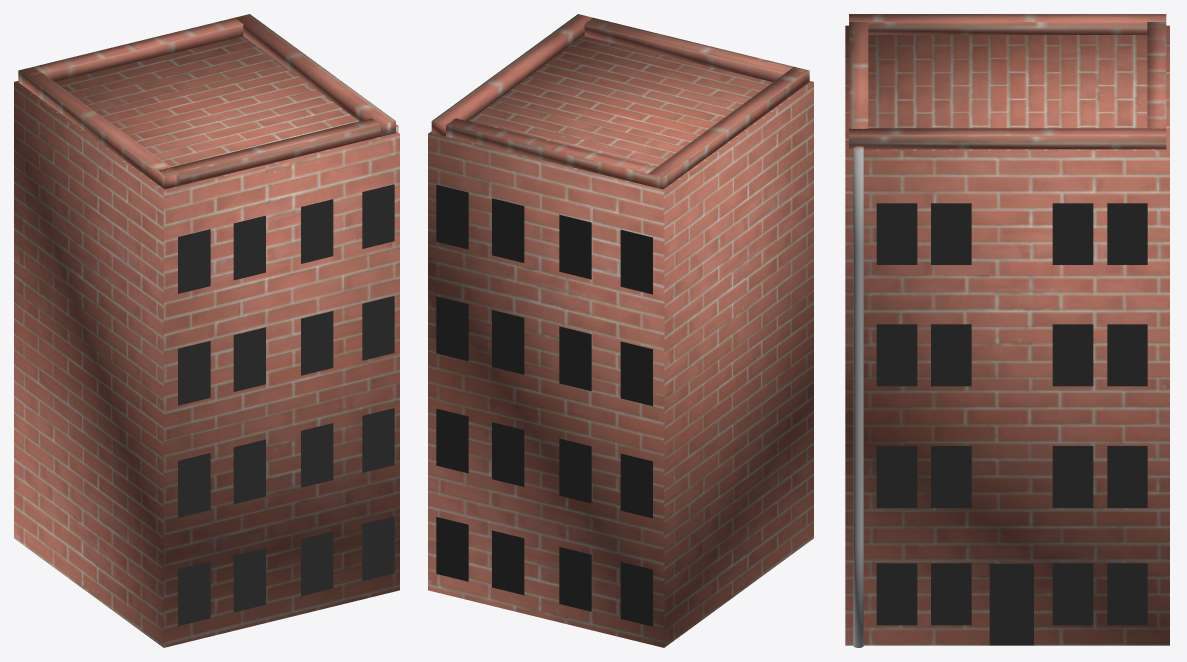
Rendered from building1.obj.
3 renders of one model, left to right at view 1: azimuth 30°, elevation 25°; view 2: azimuth 150°, elevation 25°; view 3: azimuth 270°, elevation 25°, orthographic. The views are drawn at different scales.
Parts seen in each view (by area): view 1: Box001, Box005, Box004, Box003, Box002, Plane034, Plane036, Plane037, Plane038, Plane039, Plane040, Plane041 (+9 smaller); view 2: Box001, Box004, Box005, Box003, Box002, Plane019, Plane020, Plane021, Plane023, Plane024, Plane025, Plane026 (+9 smaller); view 3: Box001, Box002, Box003, Cylinder001, Plane003, Plane002, Plane005, Plane011, Plane013, Plane007, Plane009, Plane015 (+11 smaller).
Boxes of the visible parts, bbox=[...] form: Box001: bbox=[14, 36, 399, 647]; Box005: bbox=[159, 118, 380, 185]; Box004: bbox=[24, 17, 243, 81]; Box003: bbox=[18, 66, 179, 189]; Box002: bbox=[235, 14, 395, 136]; Plane034: bbox=[362, 516, 394, 580]; Plane036: bbox=[233, 547, 265, 612]; Plane037: bbox=[178, 561, 210, 625]; Plane038: bbox=[362, 408, 394, 472]; Plane039: bbox=[301, 423, 333, 487]; Plane040: bbox=[233, 439, 265, 504]; Plane041: bbox=[178, 453, 210, 517]; Box001: bbox=[428, 36, 813, 647]; Box004: bbox=[446, 118, 663, 188]; Box005: bbox=[584, 18, 806, 81]; Box003: bbox=[648, 66, 809, 189]; Box002: bbox=[431, 14, 592, 136]; Plane019: bbox=[559, 547, 591, 611]; Plane020: bbox=[492, 530, 524, 595]; Plane021: bbox=[436, 517, 468, 581]; Plane023: bbox=[559, 438, 591, 503]; Plane024: bbox=[492, 422, 524, 486]; Plane025: bbox=[436, 408, 468, 473]; Plane026: bbox=[620, 341, 652, 406]; Box001: bbox=[845, 25, 1169, 645]; Box002: bbox=[849, 128, 1166, 149]; Box003: bbox=[849, 14, 1166, 34]; Cylinder001: bbox=[853, 146, 863, 647]; Plane003: bbox=[989, 564, 1033, 645]; Plane002: bbox=[1052, 563, 1093, 625]; Plane005: bbox=[876, 563, 917, 625]; Plane011: bbox=[1052, 324, 1093, 386]; Plane013: bbox=[876, 324, 917, 386]; Plane007: bbox=[1052, 446, 1093, 507]; Plane009: bbox=[876, 446, 917, 507]; Plane015: bbox=[1052, 203, 1093, 264].
Bounding box in the file's own units: 130 × 242 × 142.
